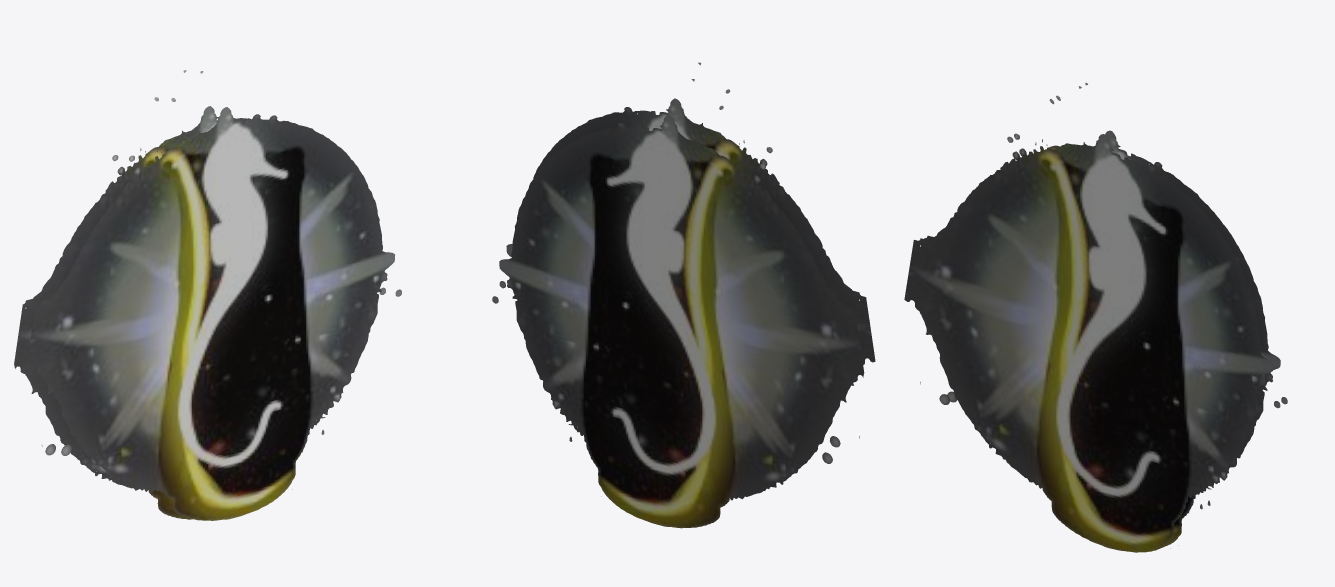
Rendered from SM_SeahorseVase.fbx.
3 views of the same model, side by side, from view 1: azimuth 30°, elevation 25°; view 2: azimuth 150°, elevation 25°; view 3: azimuth 330°, elevation 25° (orthographic).
Parts seen in each view (by area): view 1: SM_SeahorseVase; view 2: SM_SeahorseVase; view 3: SM_SeahorseVase.
Boxes of the visible parts, bbox=[...] form: SM_SeahorseVase: bbox=[14, 70, 401, 520]; SM_SeahorseVase: bbox=[492, 62, 875, 528]; SM_SeahorseVase: bbox=[904, 83, 1287, 552].
Size of the model in its own units: 0.7915 by 0.9355 by 0.0395.
